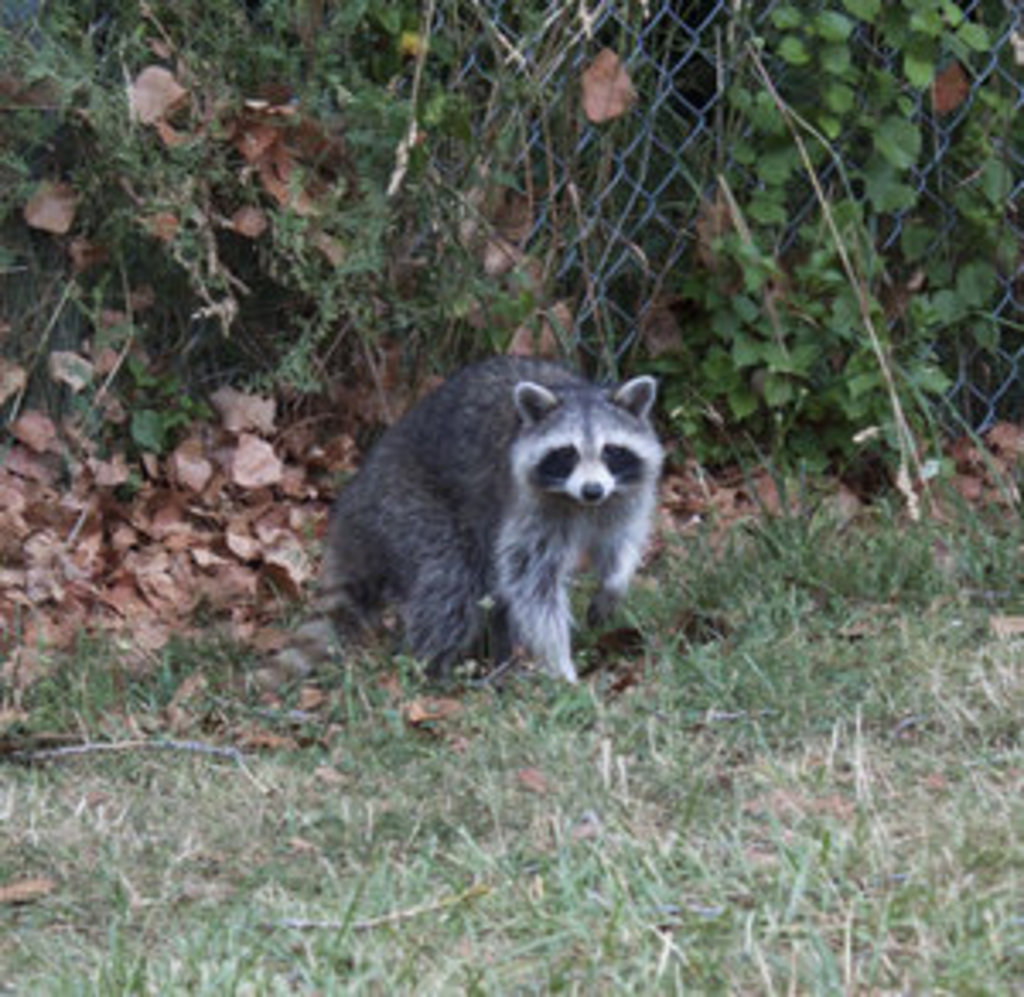raccoon: (257, 350, 662, 697)
